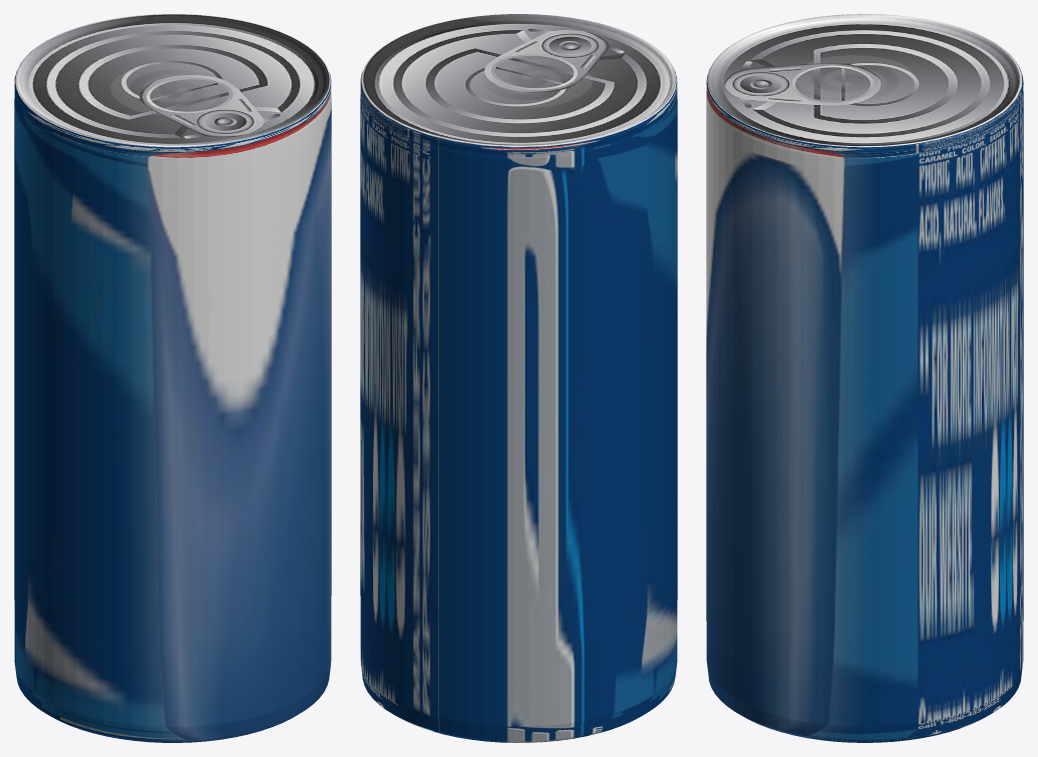
Rendered from can.fbx.
3 renders of one model, left to right at view 1: azimuth 30°, elevation 25°; view 2: azimuth 150°, elevation 25°; view 3: azimuth 270°, elevation 25°, orthographic.
Parts seen in each view (by area): view 1: can; view 2: can; view 3: can.
Part boxes in pixels (x1,y1,x2,y2): can: [14, 14, 331, 742]; can: [360, 14, 677, 742]; can: [706, 14, 1023, 742].
Bounding box in the file's own units: 199 × 415 × 199.
